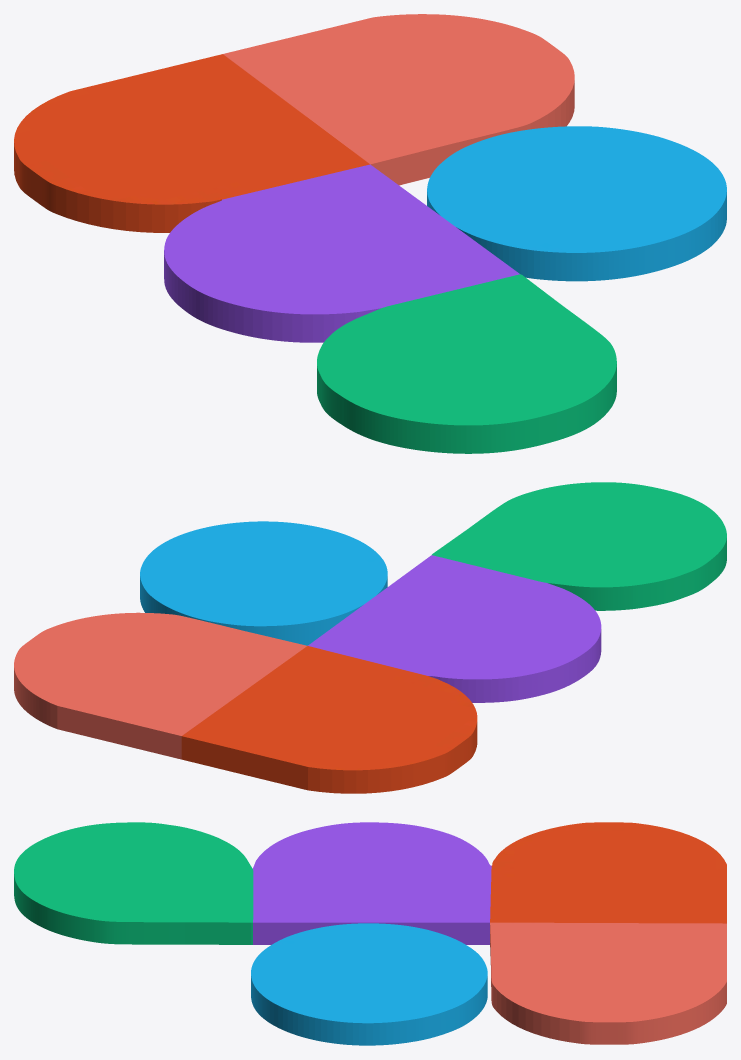
File: figma.glb
The picture shows the model from 3 angles, top to bottom: view 1: azimuth 30°, elevation 25°; view 2: azimuth 150°, elevation 25°; view 3: azimuth 270°, elevation 25°; orthographic projection. The views are drawn at different scales.
Visible parts, largest first — view 1: figma_Texture_0; view 2: figma_Texture_0; view 3: figma_Texture_0.
Boxes of the visible parts, left/top/right/bottom form: figma_Texture_0: left=14, top=14, right=726, bottom=453; figma_Texture_0: left=14, top=482, right=726, bottom=793; figma_Texture_0: left=14, top=822, right=726, bottom=1045.
Size of the model in its own units: 2.11 by 0.1137 by 3.17.
1 material, 1 textured.
